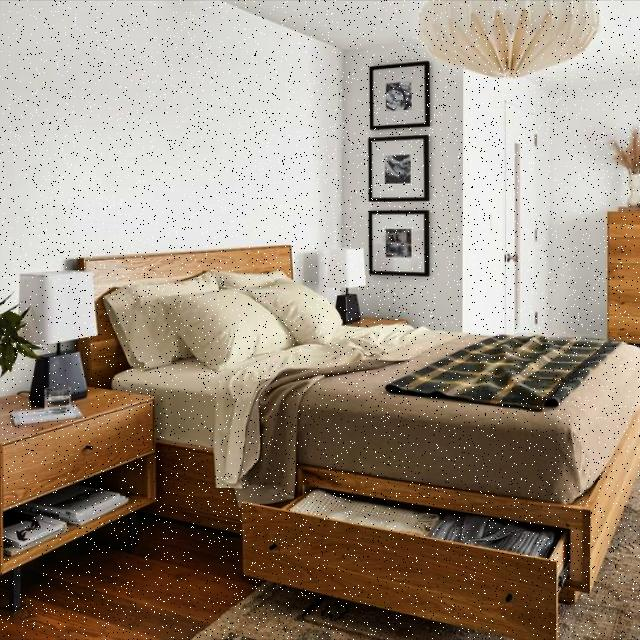bed: (100, 258, 636, 493)
